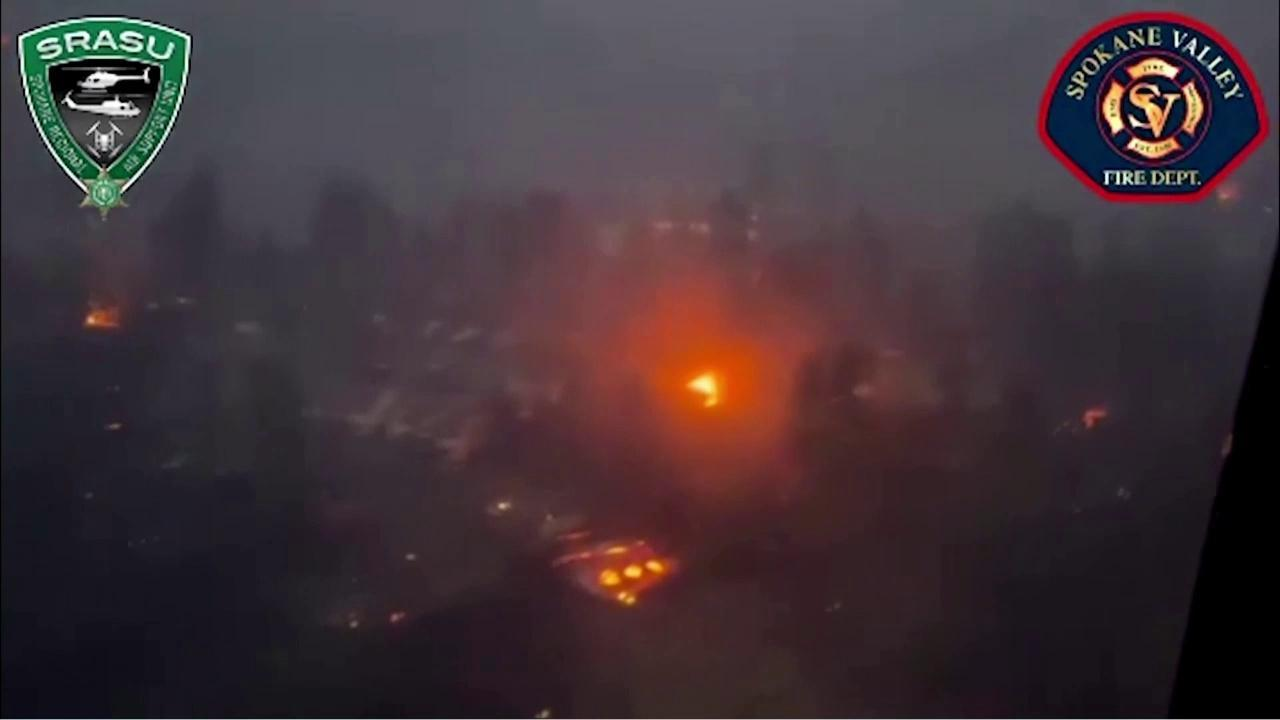fire: (541, 525, 686, 610), (682, 368, 725, 410), (78, 300, 127, 334), (1079, 406, 1108, 431), (1211, 184, 1241, 201), (389, 610, 409, 626)
smoke: (3, 0, 1280, 720)
